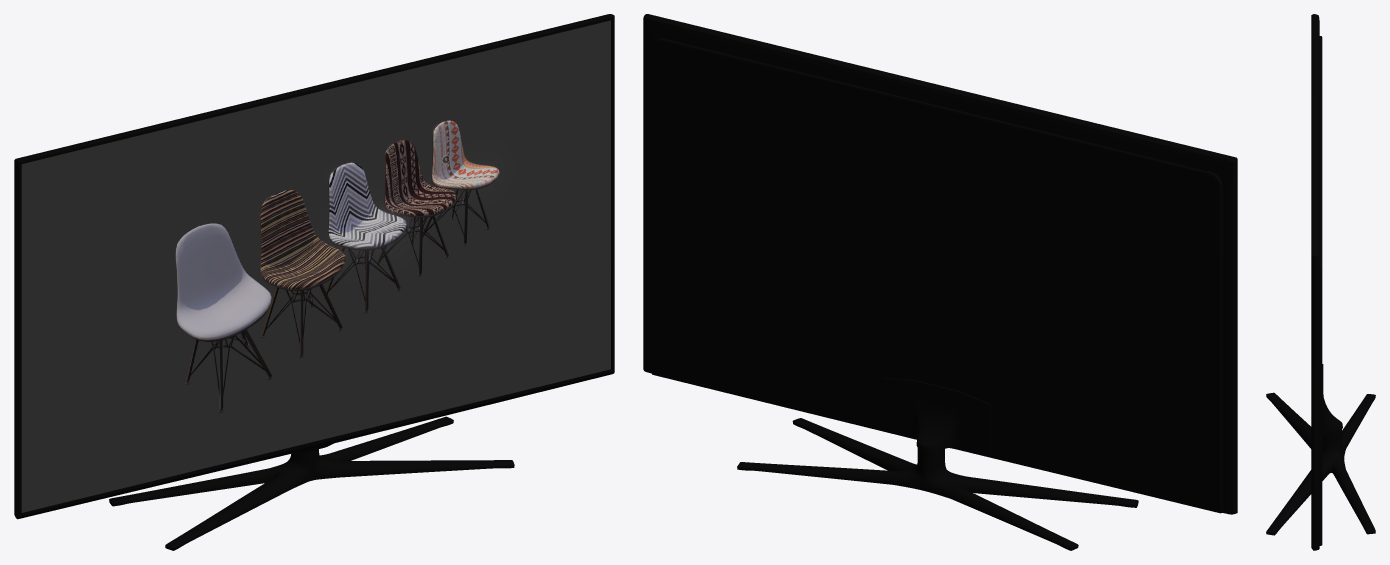
The model's file is SSTV.obj.
The picture shows the model from 3 angles, left to right: view 1: azimuth 30°, elevation 25°; view 2: azimuth 150°, elevation 25°; view 3: azimuth 270°, elevation 25°; orthographic projection. The views are drawn at different scales.
Parts seen in each view (by area): view 1: SSTV; view 2: SSTV; view 3: SSTV.
Part boxes in pixels (x1=…): SSTV: x1=14, y1=14, x2=614, y2=550; SSTV: x1=643, y1=14, x2=1237, y2=550; SSTV: x1=1266, y1=14, x2=1375, y2=550.
Size of the model in its own units: 123 by 78.92 by 23.67.
